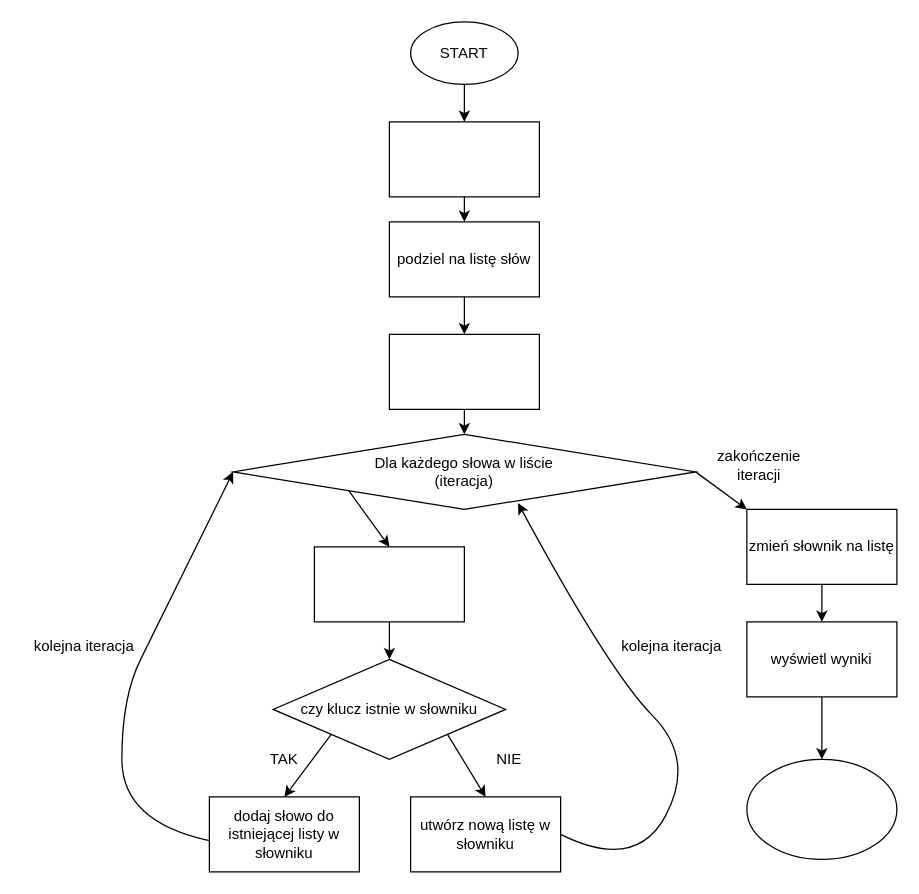
Some shapes in this 919 by 894 pixel diagram are drawn without their labels. The shapes that lost their labels are listed below. From the top down, each one's centre as x and y in pixels, then its label:
At (x=463, y=159): "slowa = input".
At (x=463, y=371): "zainicjalizuj pusty słownik".
At (x=388, y=584): "utwórz klucz z posortowanych liter".
At (x=821, y=808): "KONIEC".
